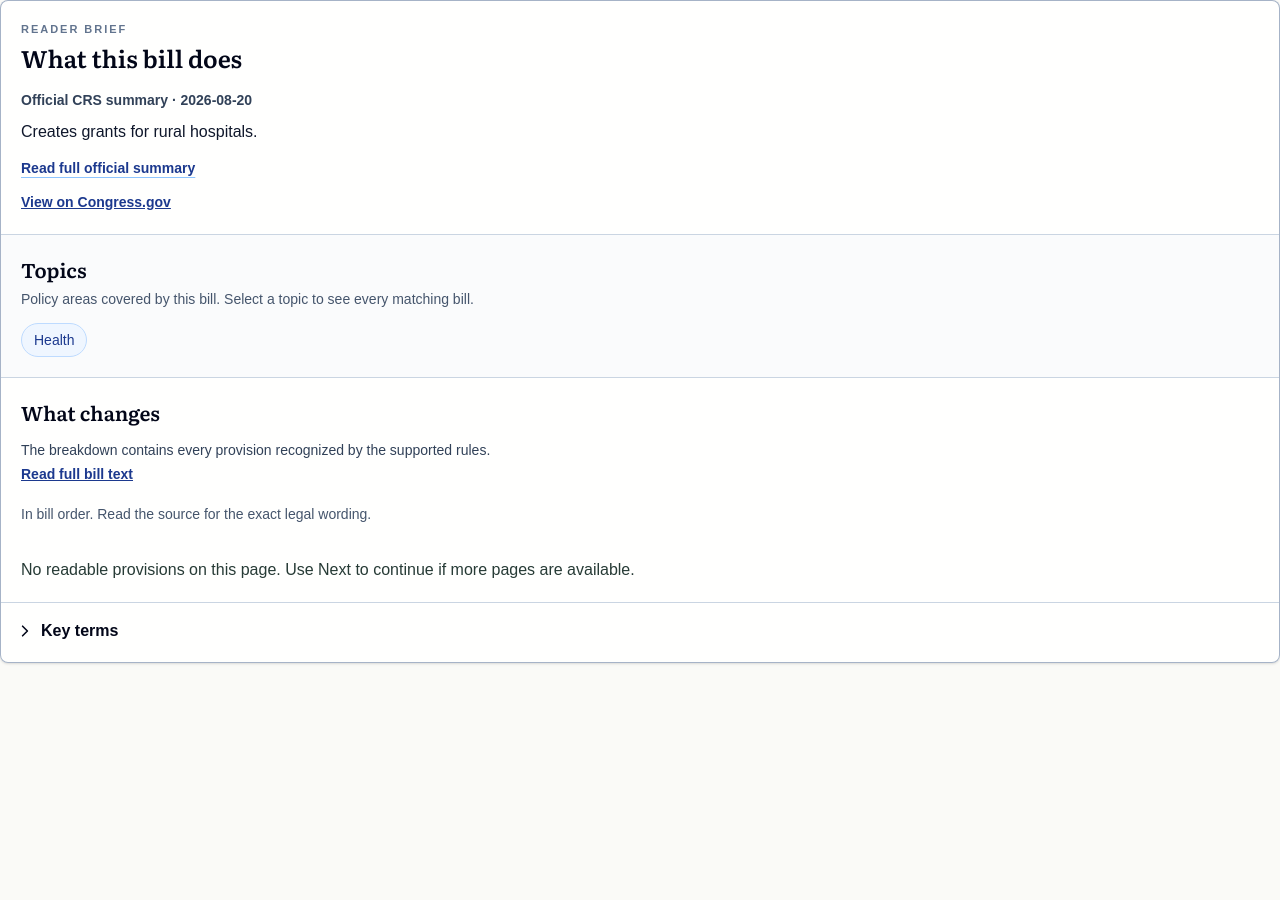
it: BillBrief › loads all H.R. 7583 glossary pages before counting distinct meanings
The width and height of the screenshot is (1280, 900).
What coordinates should you click on to do the following:
click the button "Key terms"
I would click on:
 (68, 630)
Its box is x1=17 y1=618 x2=118 y2=642.
(page scrolled)
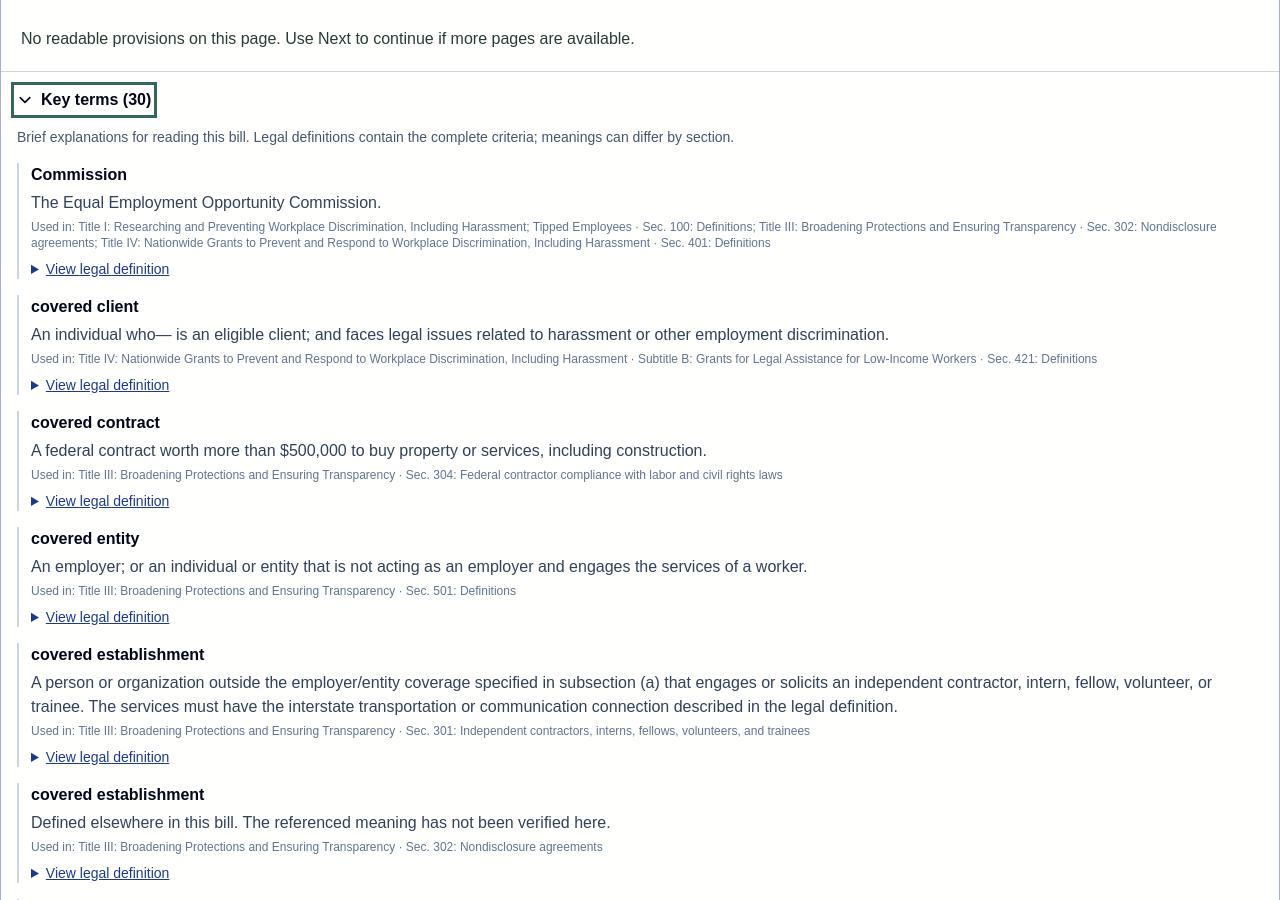
Result: the button "Key terms (30)" is shown at x1=17 y1=88 x2=151 y2=112
Result: the text "Commission" is shown once at x1=31 y1=166 x2=127 y2=182
Result: the text "A federal contract worth more than $500,000 to buy property or services, including construction." is shown at x1=31 y1=442 x2=707 y2=458
